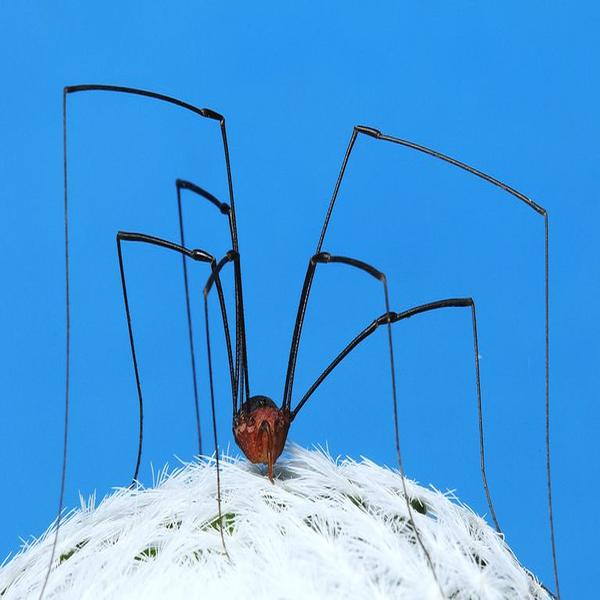Daddy Long Legs Spider: (46, 83, 563, 599)
